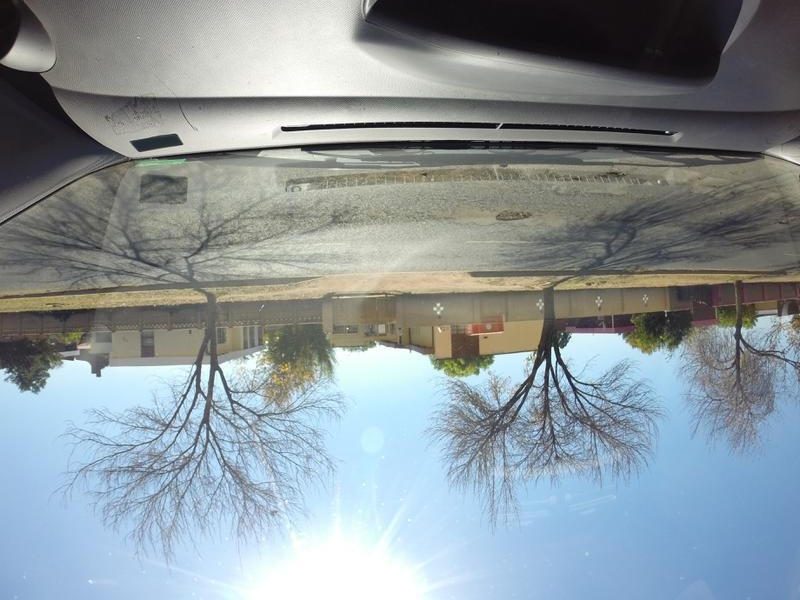pothole: (491, 206, 533, 222), (774, 217, 789, 231)
